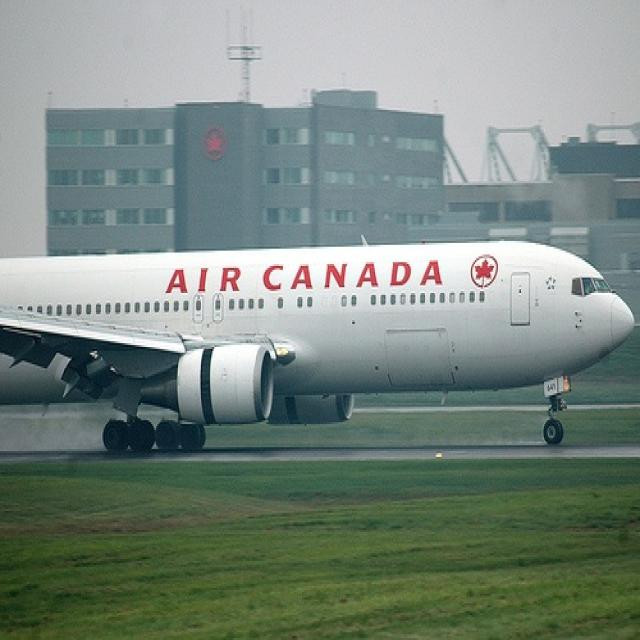aeroplane: (1, 238, 635, 452)
